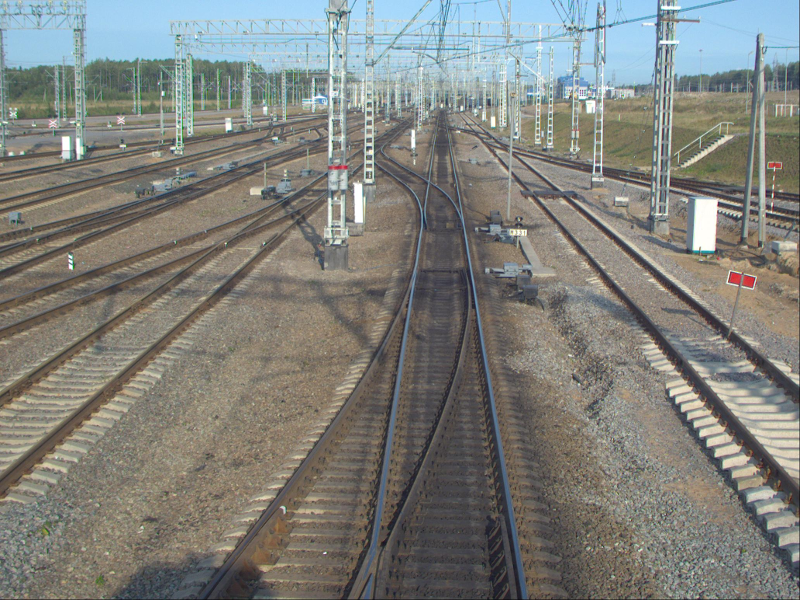left: (418, 177, 467, 228)
